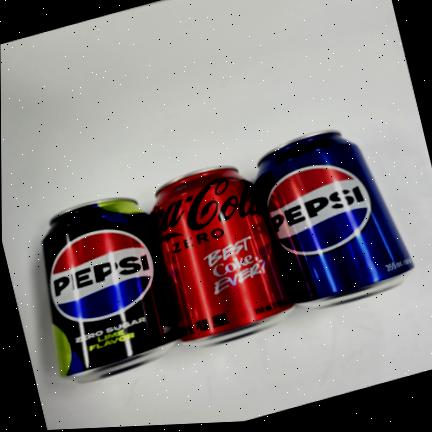can_coke_zero: (152, 167, 296, 347)
can_pepsi: (252, 130, 416, 307)
can_pepsi_zero: (38, 197, 182, 382)
